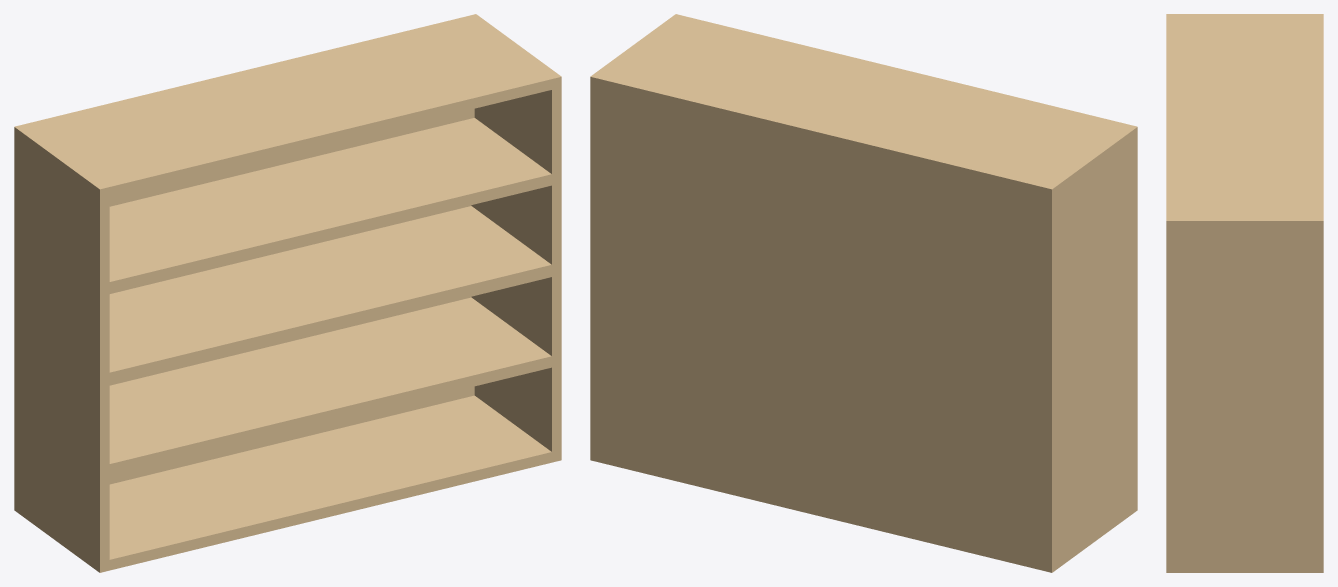
Rendered from obojene police.fbx.
3 views of the same model, side by side, from view 1: azimuth 30°, elevation 25°; view 2: azimuth 150°, elevation 25°; view 3: azimuth 270°, elevation 25° (orthographic). The views are drawn at different scales.
Parts seen in each view (by area): view 1: Cube; view 2: Cube; view 3: Cube.
Boxes of the visible parts, box(x1,y1,x2,y2) form: Cube: box(14, 14, 561, 572); Cube: box(590, 14, 1137, 572); Cube: box(1166, 14, 1323, 572).
Size of the model in its own units: 623 by 494 by 200.
